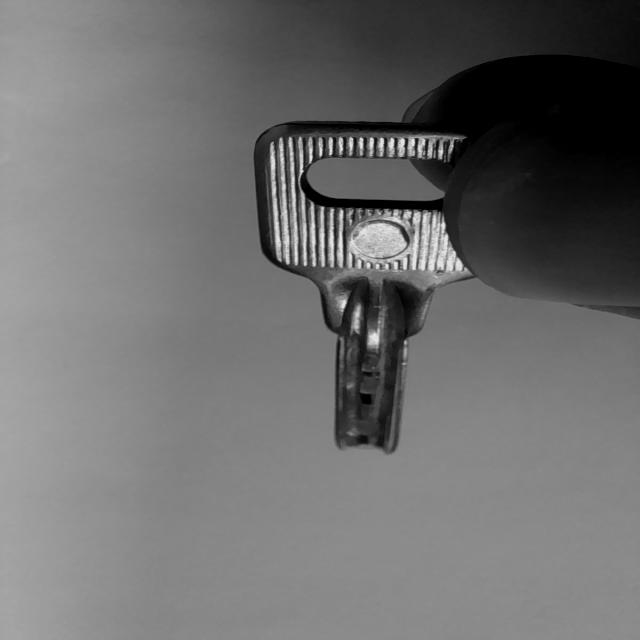key: (254, 121, 477, 454)
